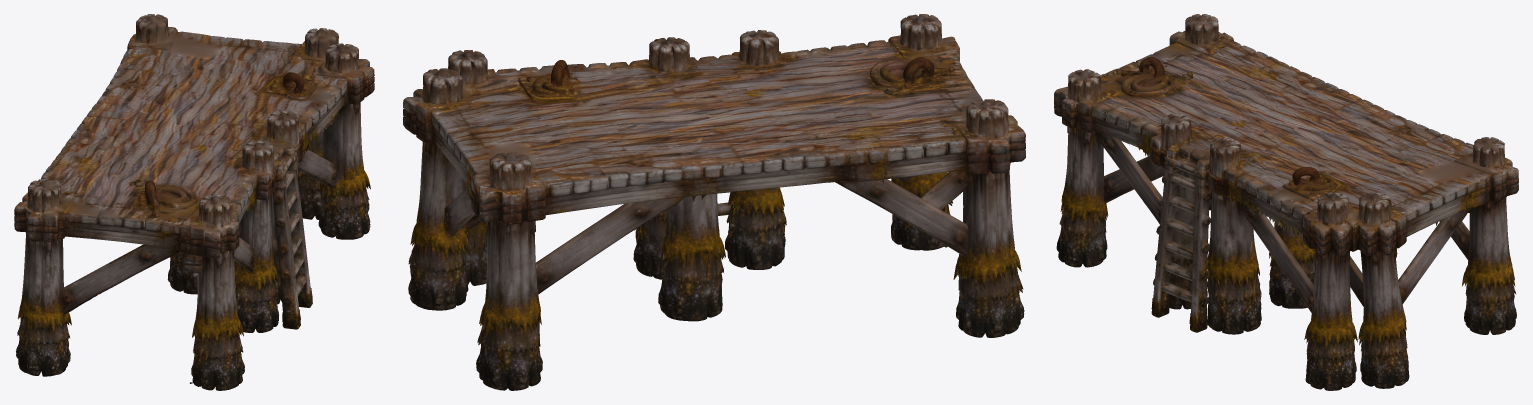
The model's file is dock_landing_4k_texture.glb.
3 views of the same model, side by side, from view 1: azimuth 30°, elevation 25°; view 2: azimuth 150°, elevation 25°; view 3: azimuth 270°, elevation 25° (orthographic). The views are drawn at different scales.
Visible parts, largest first — view 1: material; view 2: material; view 3: material.
Part boxes in pixels (box(x1,y1,x2,y2)): material: box(14, 14, 374, 390); material: box(403, 14, 1025, 390); material: box(1054, 14, 1518, 390).
Size of the model in its own units: 1.05 by 0.4471 by 1.01.
Materials: 1 (1 with a texture image).
